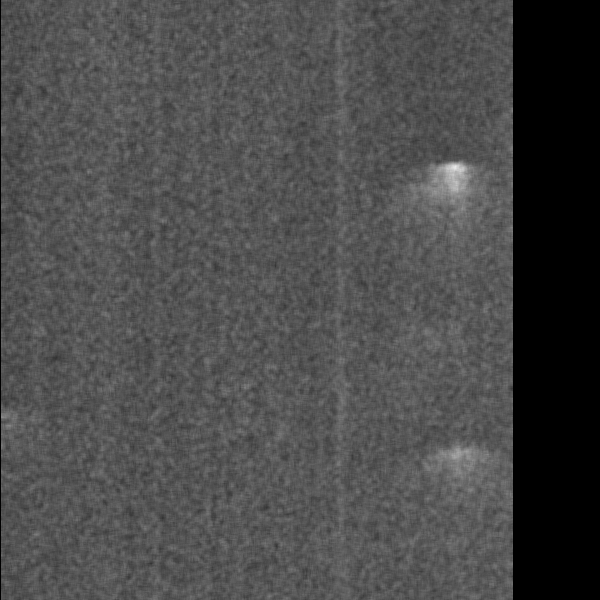spark: (162, 435, 196, 470)
